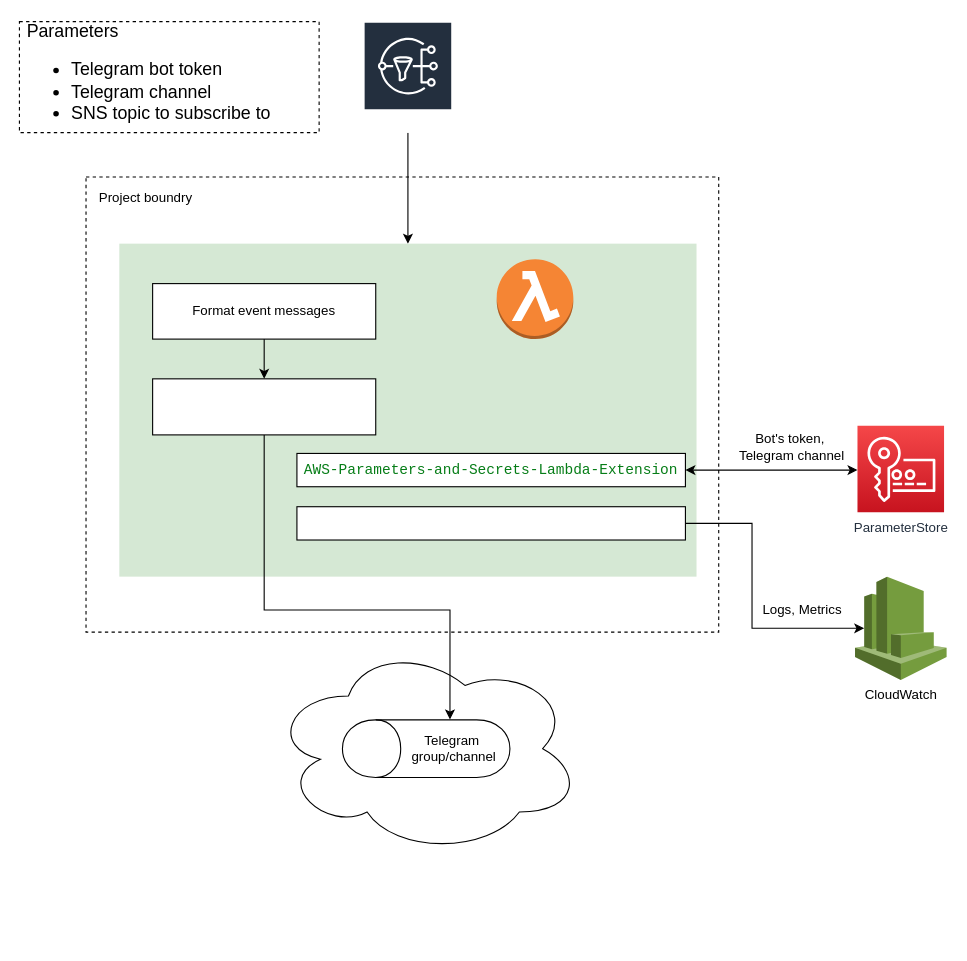
Image size: 967x961. Some labels were removed from this diagram. Each missing label, with the box of its shape:
Amazon SNS: (362, 21, 452, 133)
AWSLambdaPowertoolsPython: (296, 506, 685, 540)
Send to channel: (152, 378, 376, 435)
